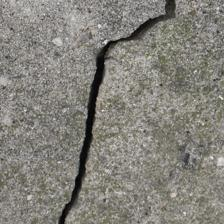Crack: (30, 2, 150, 219)
